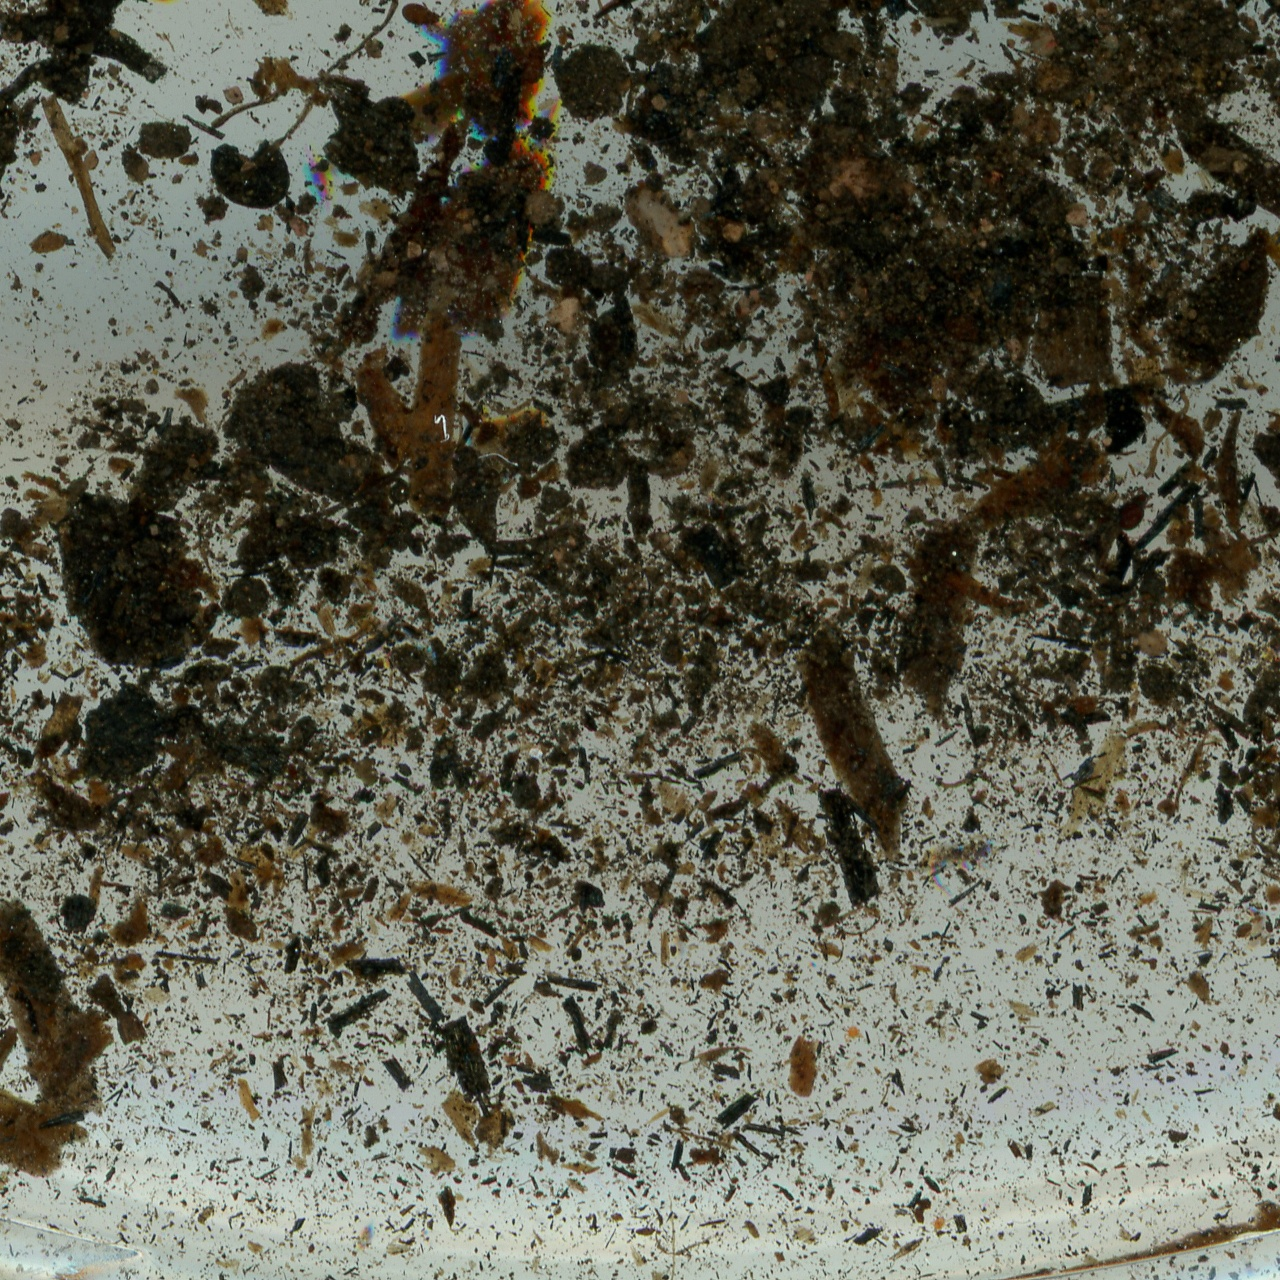arthropod: (924, 832, 996, 893), (1112, 491, 1156, 532), (928, 1213, 953, 1234), (845, 1024, 864, 1042)
